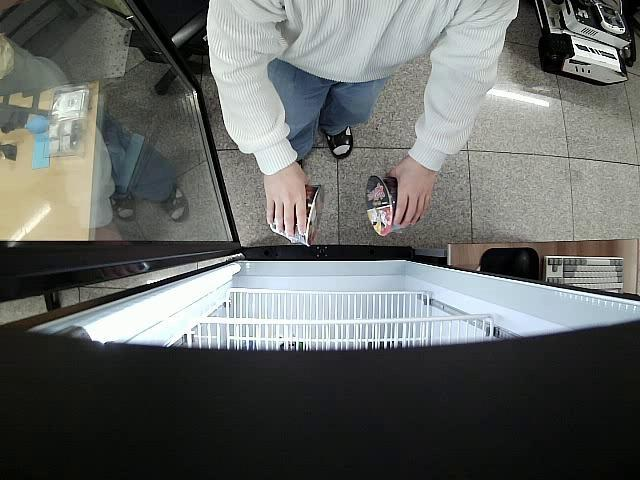07_buldak_L: (267, 184, 325, 248), (365, 173, 410, 237)
